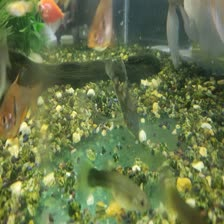Kiros: (73, 156, 157, 216)
Plano: (33, 0, 68, 31)
Transparente: (0, 67, 48, 140), (83, 0, 117, 51)
